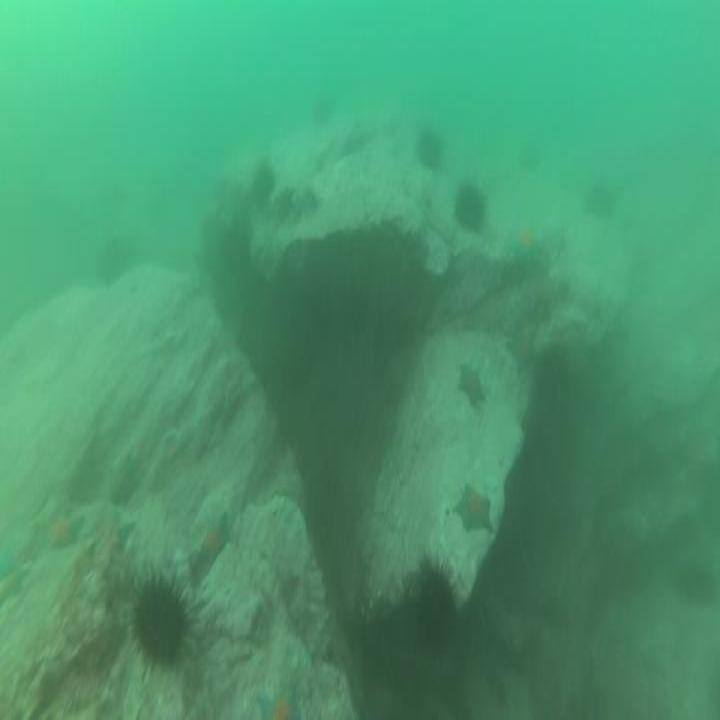echinus: (123, 558, 200, 681), (407, 549, 461, 663), (451, 176, 489, 240), (91, 236, 133, 292), (581, 176, 618, 229), (247, 153, 278, 213), (413, 123, 447, 176), (514, 139, 545, 176), (308, 96, 337, 128)
starfish: (39, 496, 85, 556), (450, 477, 495, 538), (198, 508, 234, 576), (453, 357, 491, 416), (506, 316, 541, 380), (255, 679, 307, 720), (504, 226, 544, 268), (0, 528, 18, 581)
